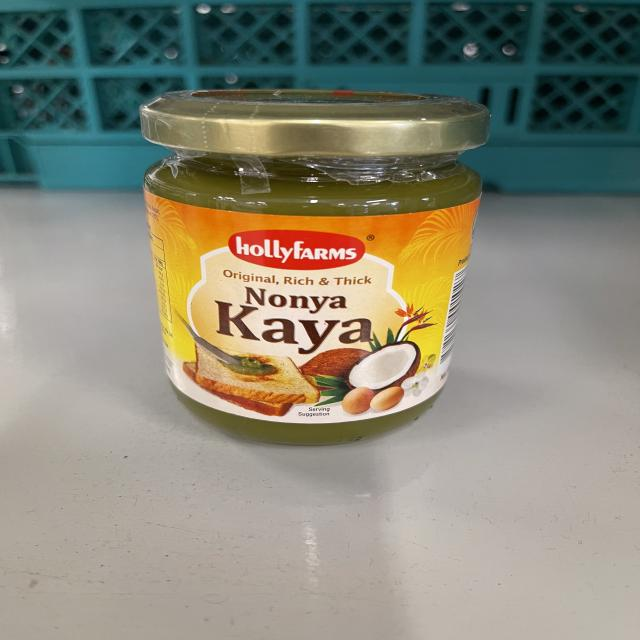object_name: (143, 94, 492, 446)
